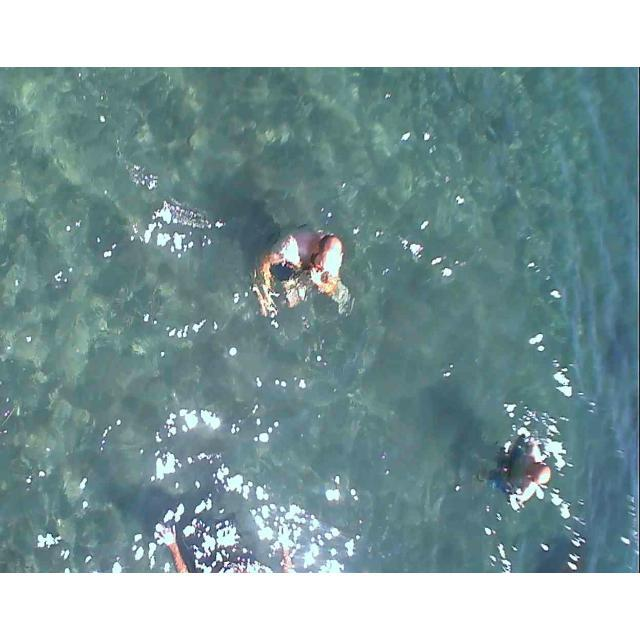human: (250, 218, 337, 323), (490, 412, 556, 516)
